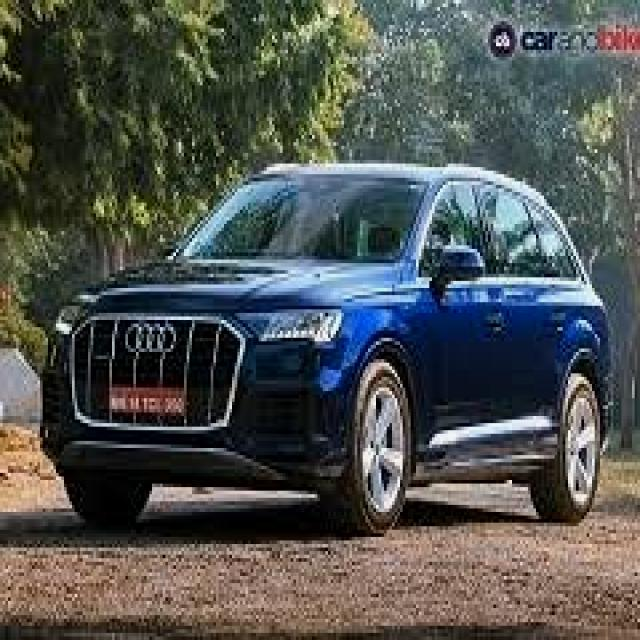SUV: (37, 164, 616, 533)
